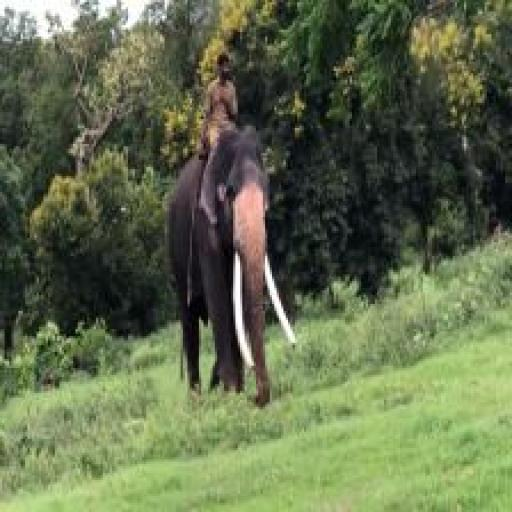Elephant: (164, 119, 300, 415)
